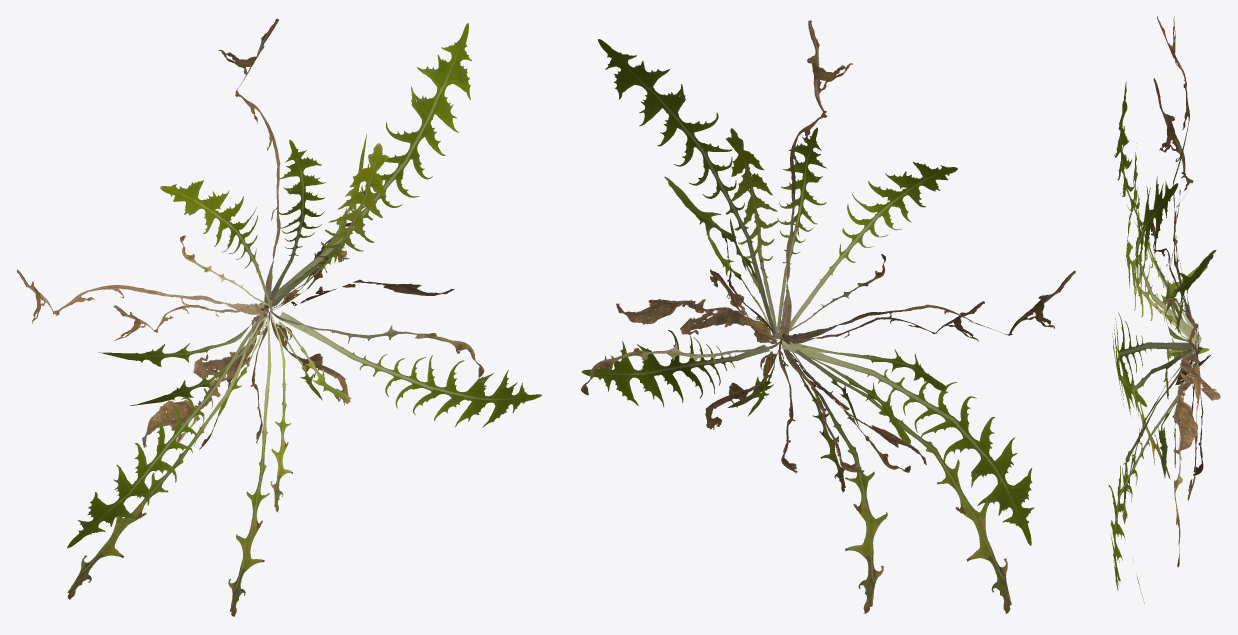
File: Weed_02_Var2_LOD1.fbx
The picture shows the model from 3 angles, left to right: view 1: azimuth 30°, elevation 25°; view 2: azimuth 150°, elevation 25°; view 3: azimuth 270°, elevation 25°; orthographic projection. The views are drawn at different scales.
Visible parts, largest first — view 1: Var2_LOD1; view 2: Var2_LOD1; view 3: Var2_LOD1.
Part boxes in pixels (x1,y1,x2,y2): Var2_LOD1: (17, 18, 541, 616); Var2_LOD1: (581, 20, 1075, 613); Var2_LOD1: (1108, 16, 1220, 603).
Bounding box in the file's own units: 55.41 × 60.79 × 10.17.
